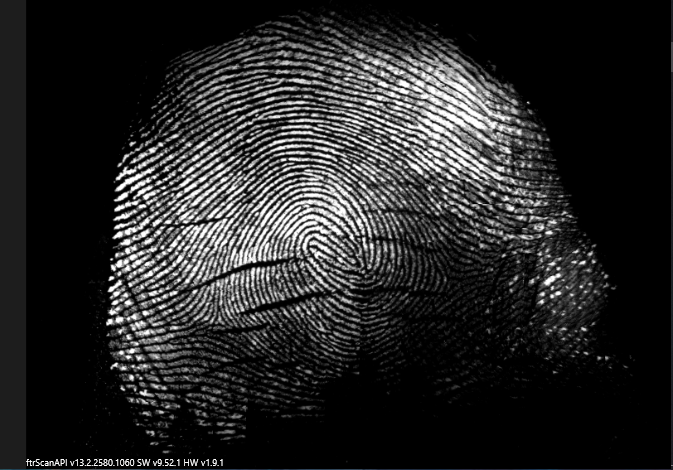nucelo: (298, 226, 355, 275)
verticilo: (207, 303, 230, 334), (437, 266, 458, 290)
